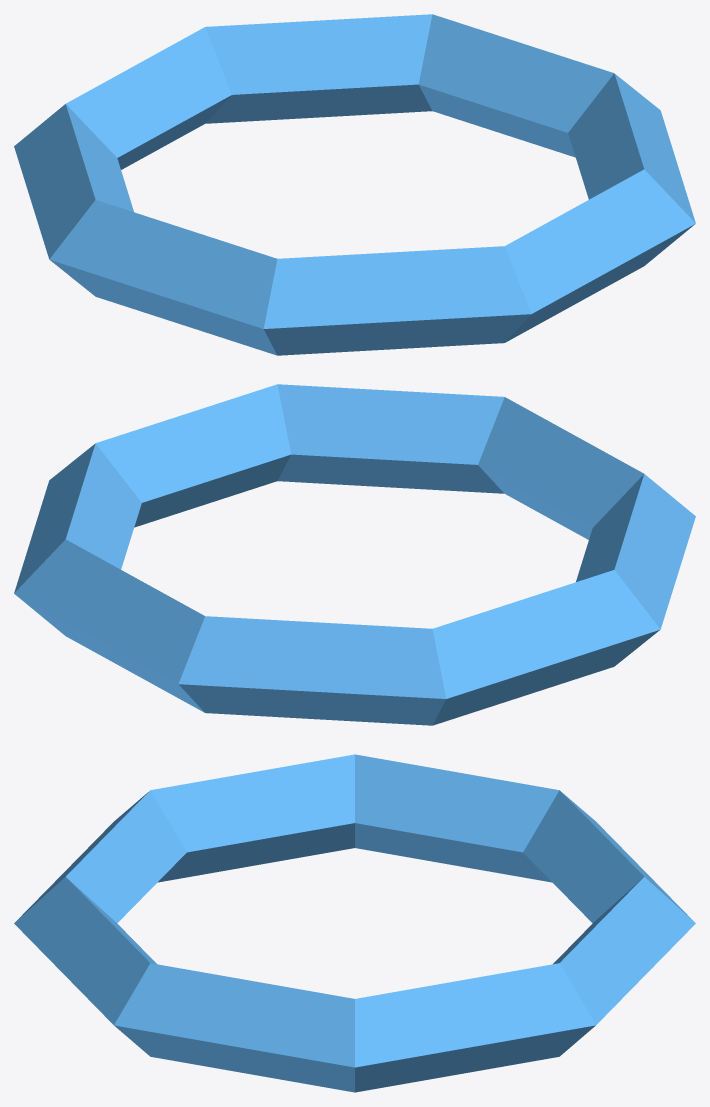
File: ring.fbx
The picture shows the model from 3 angles, top to bottom: view 1: azimuth 30°, elevation 25°; view 2: azimuth 150°, elevation 25°; view 3: azimuth 270°, elevation 25°; orthographic projection. The views are drawn at different scales.
Visible parts, largest first — view 1: ring; view 2: ring; view 3: ring.
Part boxes in pixels (x1,y1,x2,y2): ring: (14, 14, 695, 355); ring: (14, 384, 695, 725); ring: (14, 754, 695, 1092).
Size of the model in its own units: 3.3 by 0.5 by 3.3.
